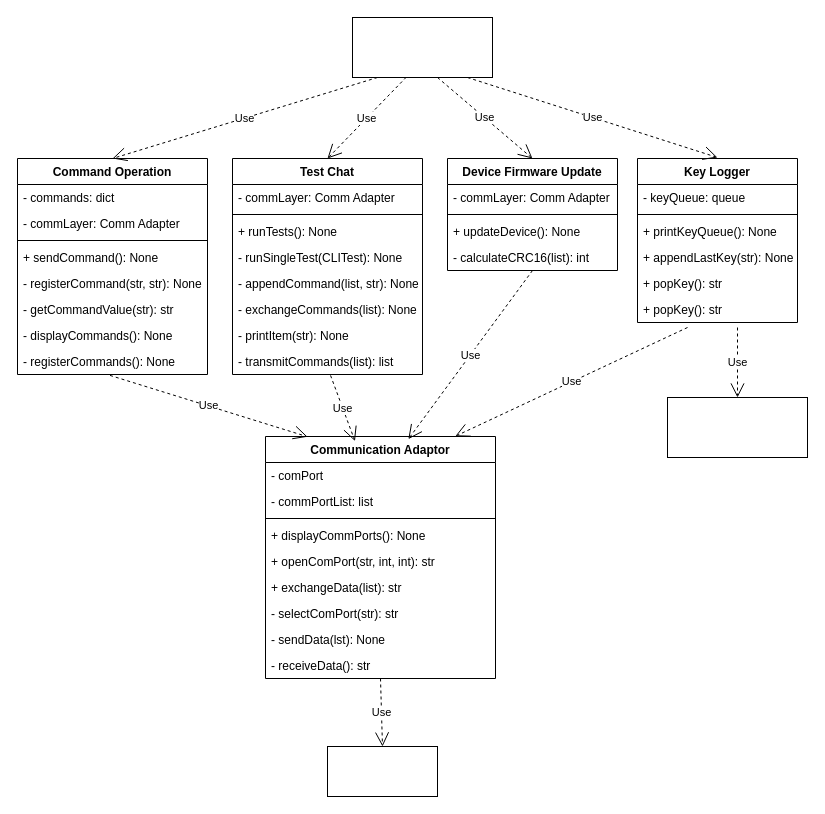
Some shapes in this 825 by 814 pixel diagram are drawn without their labels. Each missing label, with the centre of its shape:
CLI: point 422,47
deque: point 737,427
PySerial: point 382,771
